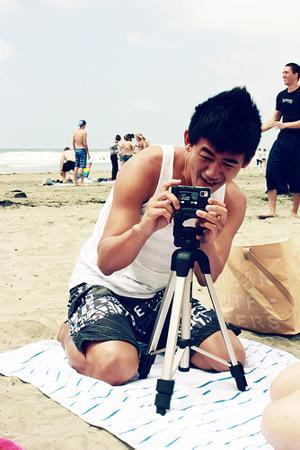person: (57, 86, 261, 387)
